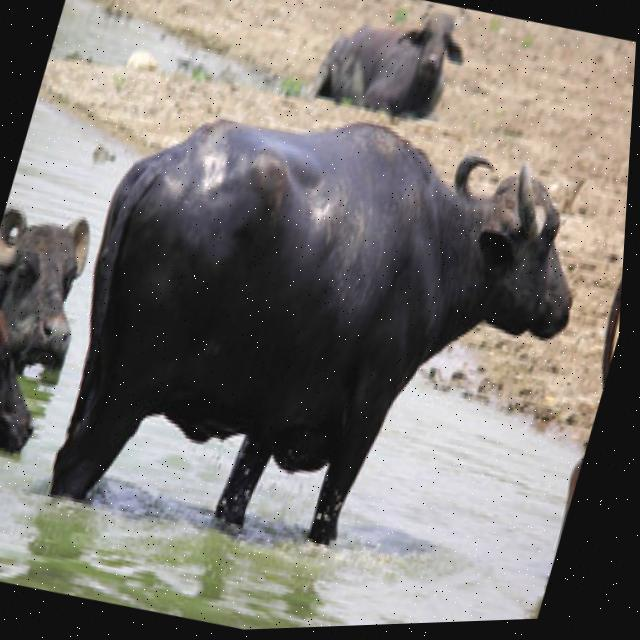Buffalo: (20, 66, 618, 601), (531, 175, 628, 574), (307, 0, 478, 130), (0, 195, 104, 396)
